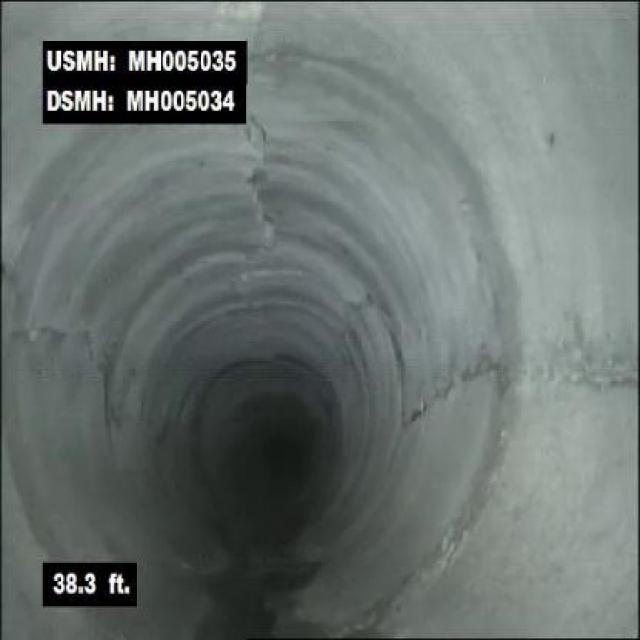Buckling: (234, 109, 283, 251)
Crack: (526, 342, 632, 418), (8, 318, 104, 360)
